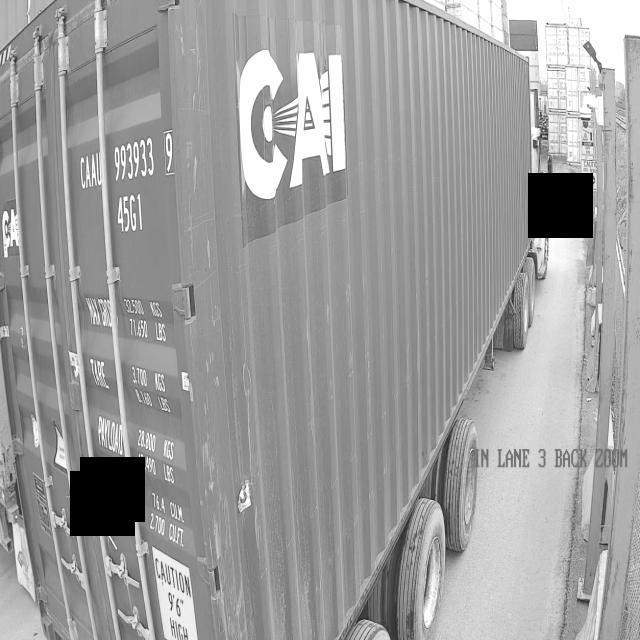container_company_logo: (230, 13, 351, 250)
container_number: (75, 114, 178, 237)
driver: (574, 180, 587, 231)
truck_with_container: (0, 0, 551, 640)
